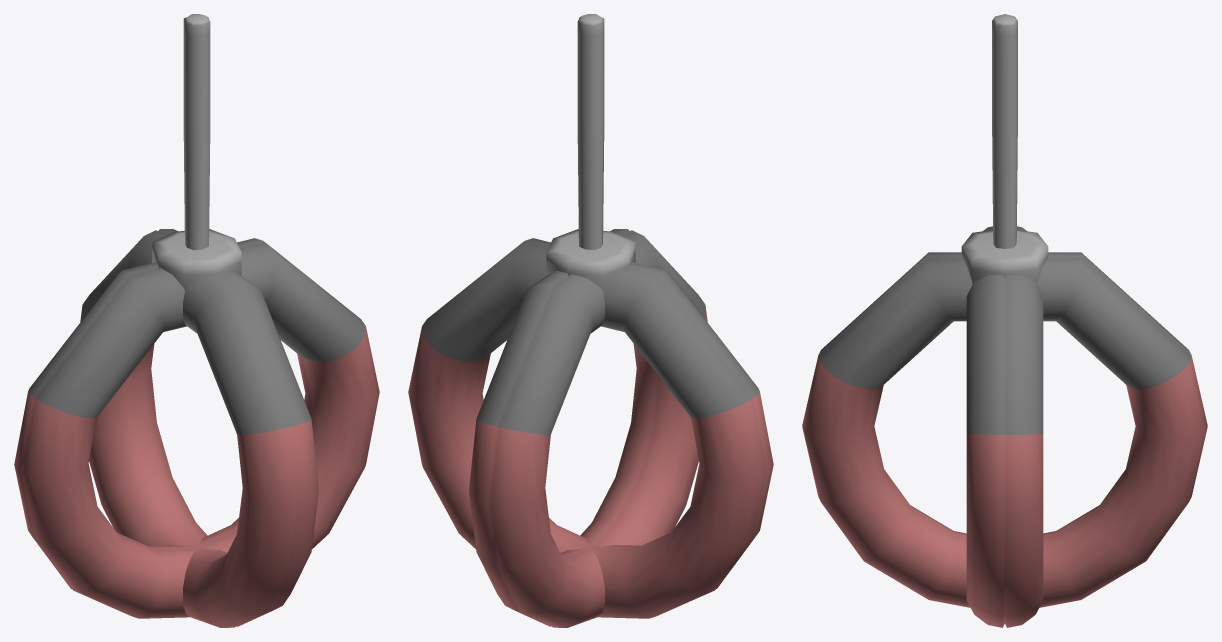
The model's file is HookGrabber.fbx.
The picture shows the model from 3 angles, left to right: view 1: azimuth 30°, elevation 25°; view 2: azimuth 150°, elevation 25°; view 3: azimuth 270°, elevation 25°; orthographic projection.
Visible parts, largest first — view 1: pTorus1, pTorus2, pCube2, pCube1; view 2: pTorus1, pTorus2, pCube2, pCube1; view 3: pTorus2, pTorus1, pCube2, pCube1.
Boxes of the visible parts, left/top/right/bottom form: pTorus1: left=14, top=238, right=379, bottom=618; pTorus2: left=80, top=229, right=318, bottom=627; pCube2: left=183, top=14, right=210, bottom=250; pCube1: left=152, top=229, right=241, bottom=290; pTorus1: left=408, top=238, right=773, bottom=618; pTorus2: left=469, top=229, right=707, bottom=627; pCube2: left=577, top=14, right=604, bottom=250; pCube1: left=546, top=229, right=635, bottom=290; pTorus2: left=802, top=252, right=1207, bottom=607; pTorus1: left=966, top=226, right=1043, bottom=627; pCube2: left=992, top=14, right=1017, bottom=248; pCube1: left=961, top=230, right=1048, bottom=284.
Size of the model in its own units: 4.66 by 7.52 by 4.66.
